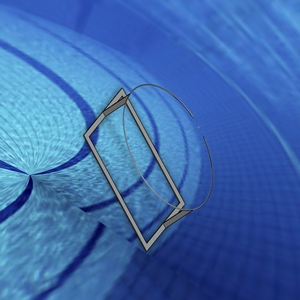circle: (82, 82, 217, 252)
